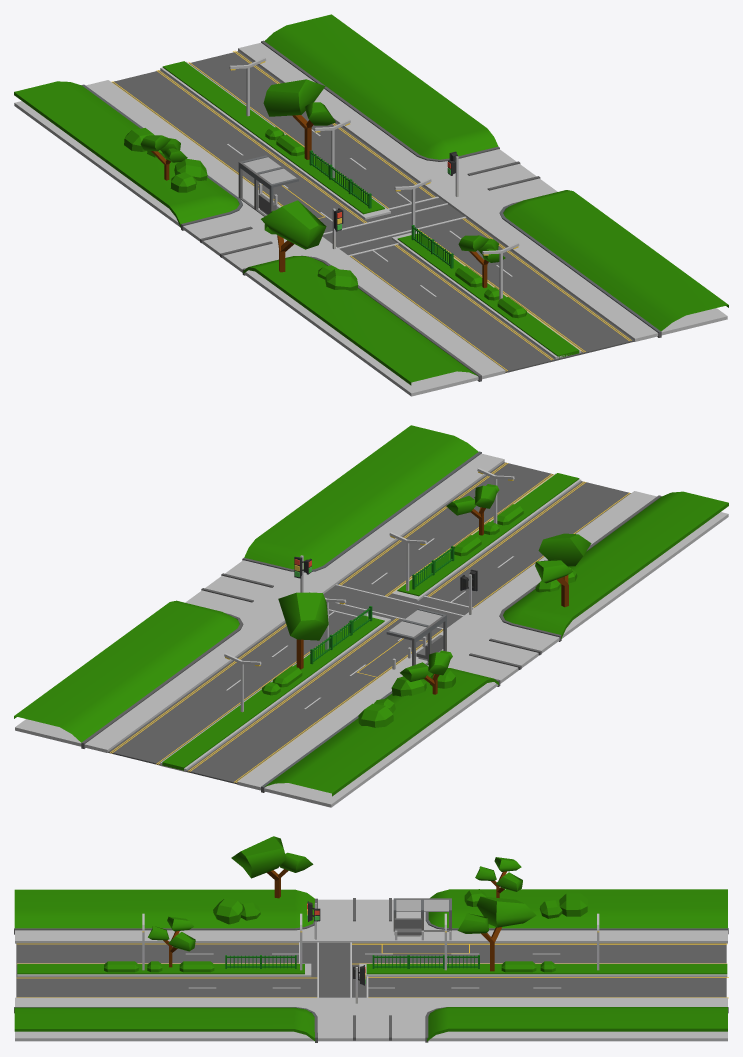
File: L1 Street.fbx
3 views of the same model, one above another, from view 1: azimuth 30°, elevation 25°; view 2: azimuth 150°, elevation 25°; view 3: azimuth 270°, elevation 25° (orthographic). The views are drawn at different scales.
Visible parts, largest first — view 1: pCube1636, pCube7013, pCube7012, pCube6979, pCube6977, pCube7009, pCube7008, pCube1666, pCube1639, pCube7016, pCube7014, Bus_stop4 (+6 smaller); view 2: pCube1636, pCube7013, pCube7012, pCube6977, pCube6979, pCube7009, pCube7008, pCube1666, pCube1639, pCube7016, pCube7014, Bus_stop4 (+8 smaller); view 3: pCube1636, pCube7012, pCube7013, pCube7009, pCube7008, pCube6977, pCube6979, pCube1666, pCube1639, pCube7016, pCube7014, Bus_stop4 (+17 smaller).
Part boxes in pixels (left/top/right/bottom): pCube1636: left=112, top=51, right=634, bottom=372; pCube7013: left=14, top=80, right=505, bottom=396; pCube7012: left=238, top=42, right=727, bottom=341; pCube6979: left=264, top=14, right=498, bottom=159; pCube6977: left=503, top=190, right=728, bottom=331; pCube7009: left=243, top=256, right=477, bottom=385; pCube7008: left=14, top=81, right=239, bottom=227; pCube1666: left=162, top=61, right=384, bottom=214; pCube1639: left=397, top=233, right=579, bottom=358; pCube7016: left=263, top=79, right=335, bottom=159; pCube7014: left=261, top=200, right=326, bottom=272; Bus_stop4: left=238, top=155, right=298, bottom=216; pCube1636: left=108, top=462, right=630, bottom=784; pCube7013: left=237, top=491, right=728, bottom=807; pCube7012: left=15, top=453, right=504, bottom=752; pCube6977: left=244, top=425, right=478, bottom=569; pCube6979: left=14, top=600, right=239, bottom=742; pCube7009: left=503, top=491, right=728, bottom=639; pCube7008: left=264, top=668, right=498, bottom=796; pCube1666: left=162, top=615, right=384, bottom=770; pCube1639: left=397, top=473, right=579, bottom=596; pCube7016: left=278, top=592, right=328, bottom=669; pCube7014: left=535, top=533, right=591, bottom=607; Bus_stop4: left=386, top=608, right=446, bottom=665; pCube1636: left=16, top=943, right=726, bottom=997; pCube7012: left=15, top=997, right=727, bottom=1041; pCube7013: left=15, top=899, right=727, bottom=943; pCube7009: left=14, top=889, right=314, bottom=928; pCube7008: left=428, top=889, right=727, bottom=928; pCube6977: left=14, top=1007, right=315, bottom=1041; pCube6979: left=427, top=1007, right=727, bottom=1041; pCube1666: left=366, top=964, right=727, bottom=974; pCube1639: left=17, top=964, right=304, bottom=974; pCube7016: left=457, top=896, right=536, bottom=971; pCube7014: left=231, top=836, right=313, bottom=898; Bus_stop4: left=393, top=898, right=451, bottom=936.
Bounding box in the file's own units: 12.37 × 3.04 × 26.62.
1 material, 1 textured.
